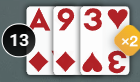3: (81, 6, 105, 34)
9: (53, 7, 79, 35)
a: (26, 6, 52, 34)
